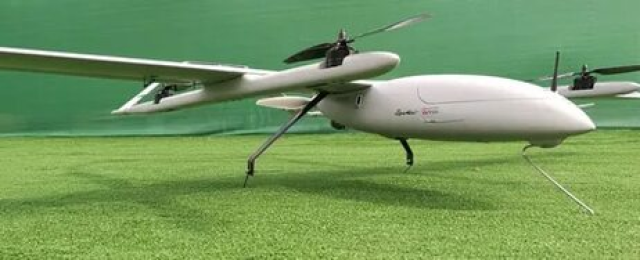military drone: (0, 14, 640, 214)
